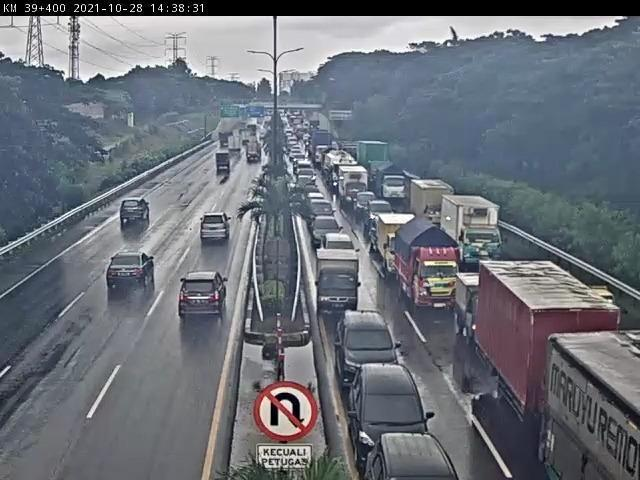car: (356, 374, 435, 446), (375, 435, 460, 480), (340, 313, 398, 370), (101, 247, 158, 293), (317, 255, 362, 311), (180, 272, 228, 316), (117, 194, 155, 226), (198, 213, 234, 242), (321, 236, 354, 256), (316, 218, 343, 240), (216, 150, 236, 173), (376, 210, 399, 230), (310, 207, 336, 224), (365, 200, 382, 218), (302, 193, 318, 205), (291, 149, 305, 162), (300, 179, 314, 192), (298, 170, 316, 180), (308, 198, 323, 209), (296, 165, 312, 174), (297, 154, 309, 165), (313, 188, 314, 190), (309, 163, 310, 164), (325, 203, 326, 204)
truck: (496, 268, 599, 420), (549, 332, 640, 480), (405, 234, 462, 313), (448, 198, 500, 265), (459, 279, 487, 347), (380, 216, 407, 270), (411, 180, 444, 224), (345, 173, 374, 209), (384, 168, 410, 203), (328, 150, 350, 190), (363, 144, 388, 179), (313, 131, 334, 163), (246, 138, 265, 164), (226, 136, 241, 159), (238, 122, 253, 140), (260, 127, 271, 144), (219, 129, 231, 142), (254, 116, 264, 127)
